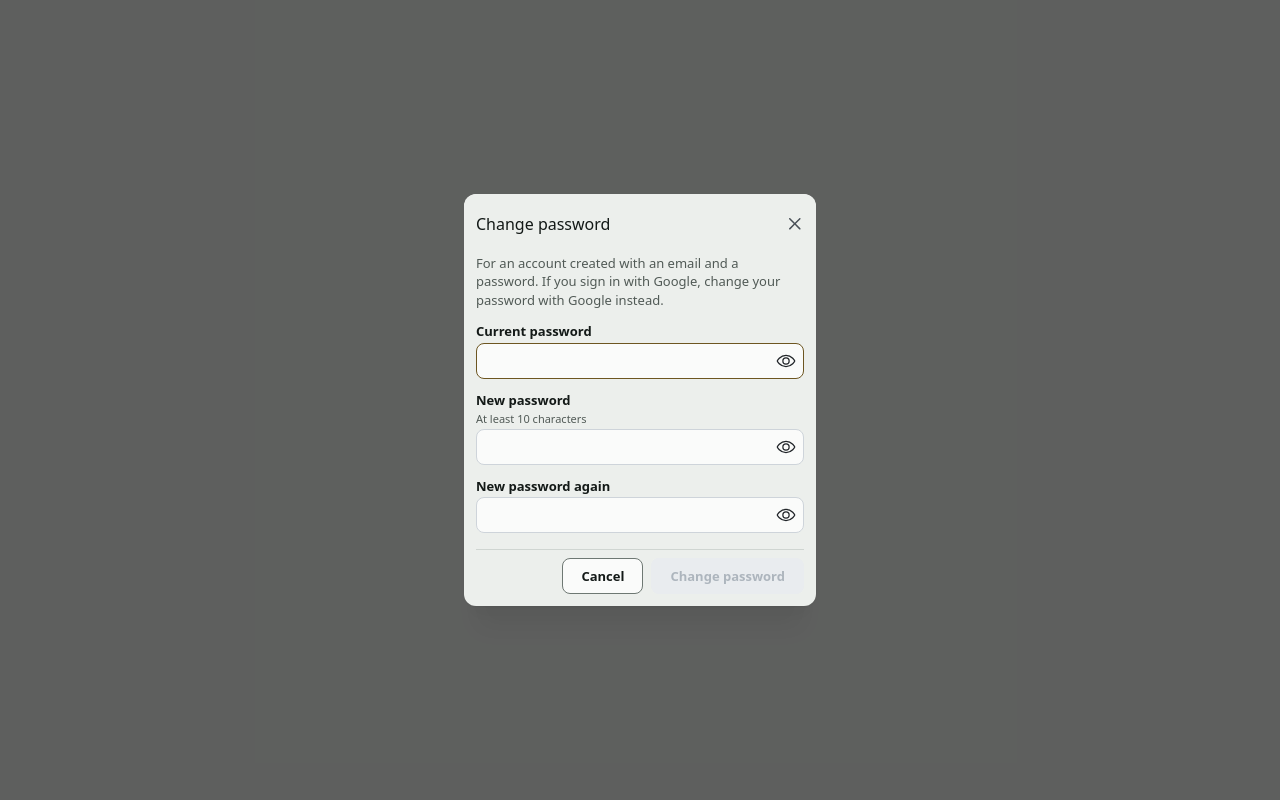
two new passwords that differ are refused before the server is asked
The image size is (1280, 800).
In the password field labelled "Current password": (640, 361) [477,344,803,378], type "password1234"
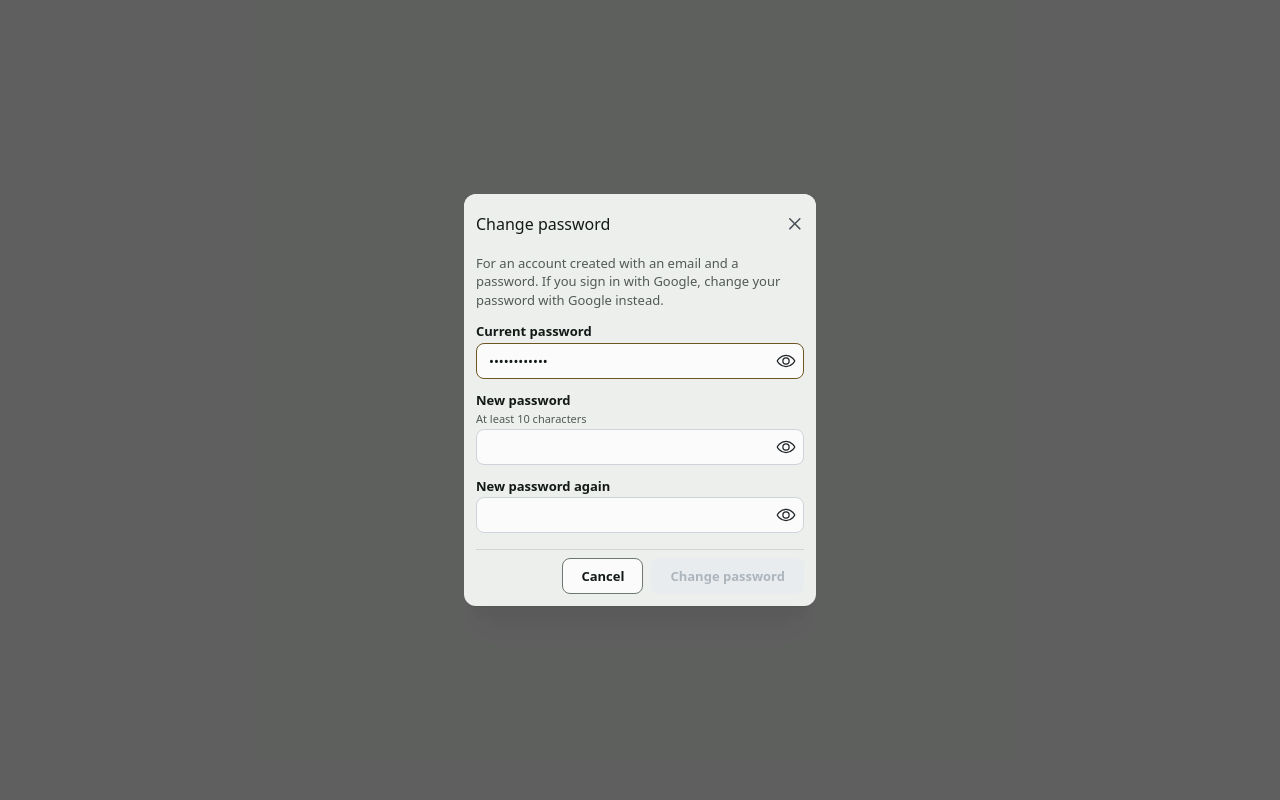
In the password field labelled "New password": (640, 447) [477,430,803,464], type "newpassword12"
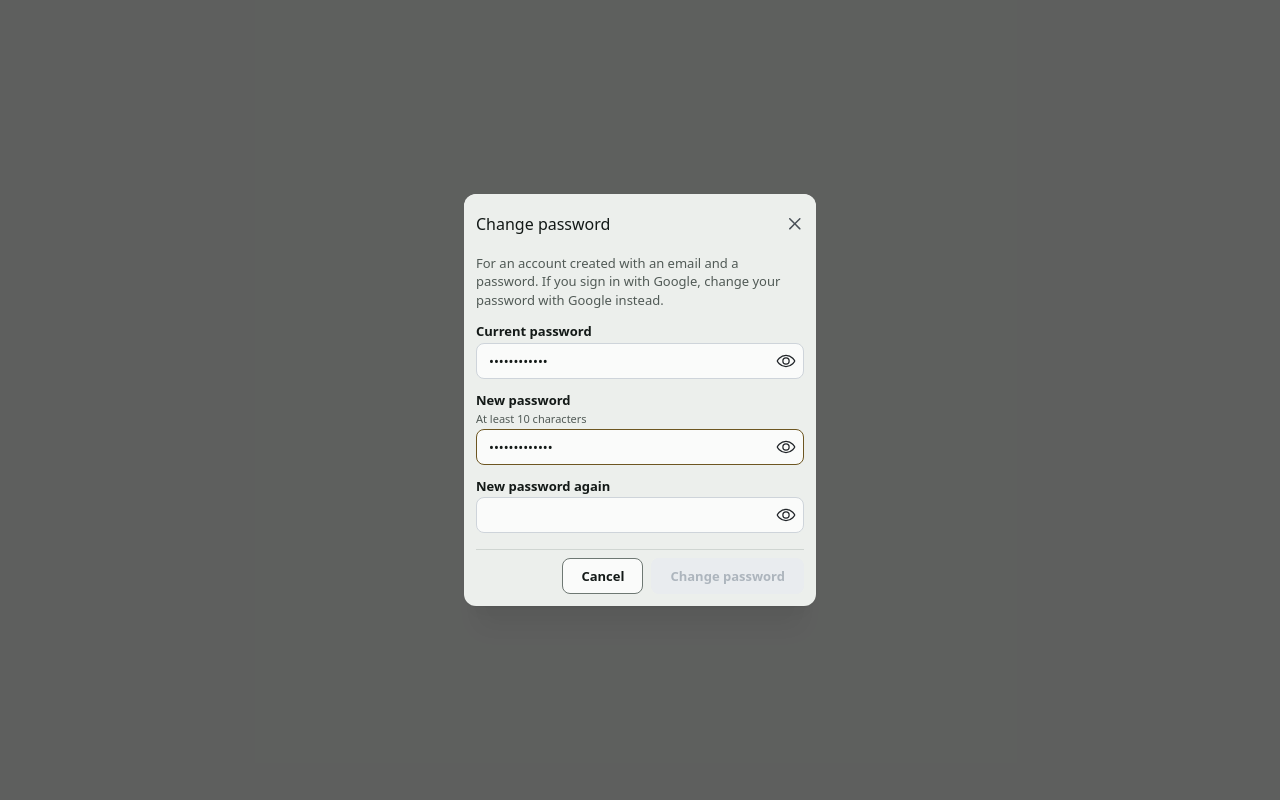
In the password field labelled "New password again": (640, 515) [477,498,803,532], type "newpassword13"
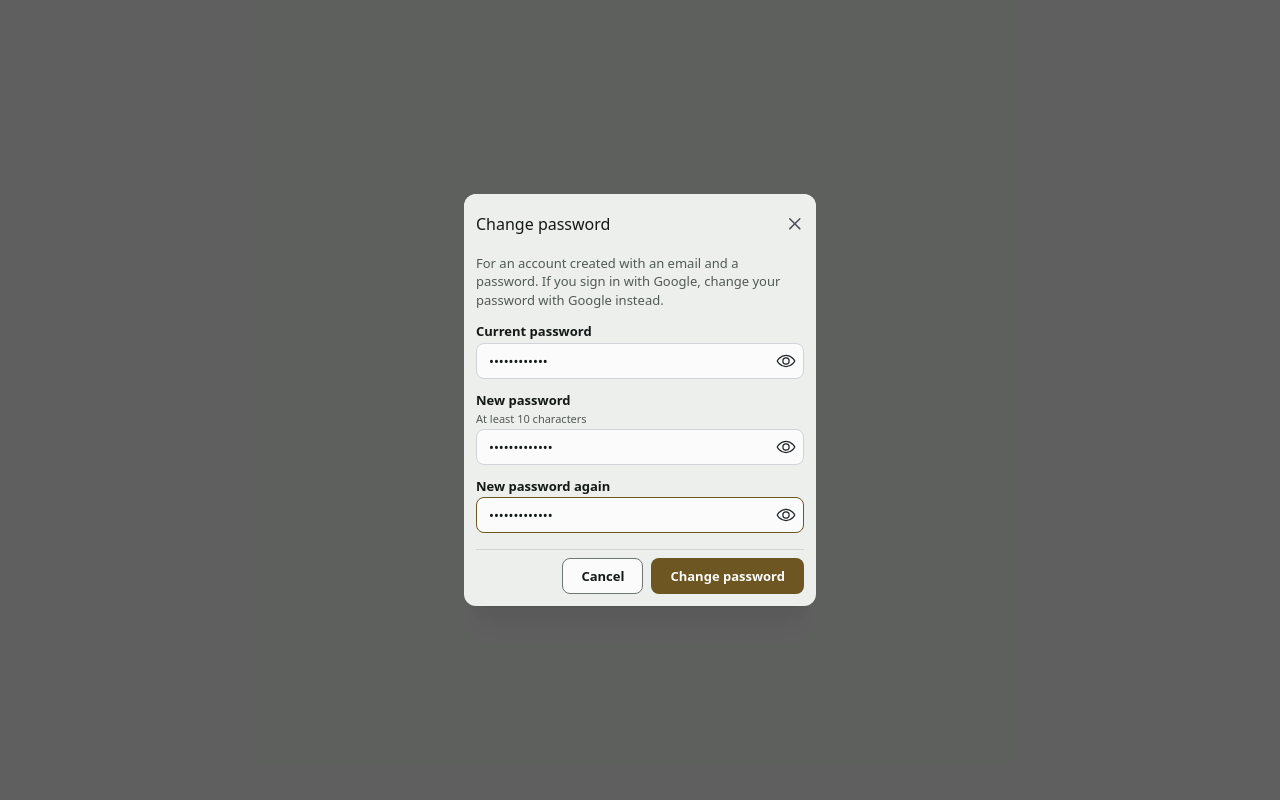
Click the button "Change password": (728, 576) [651,558,804,594]
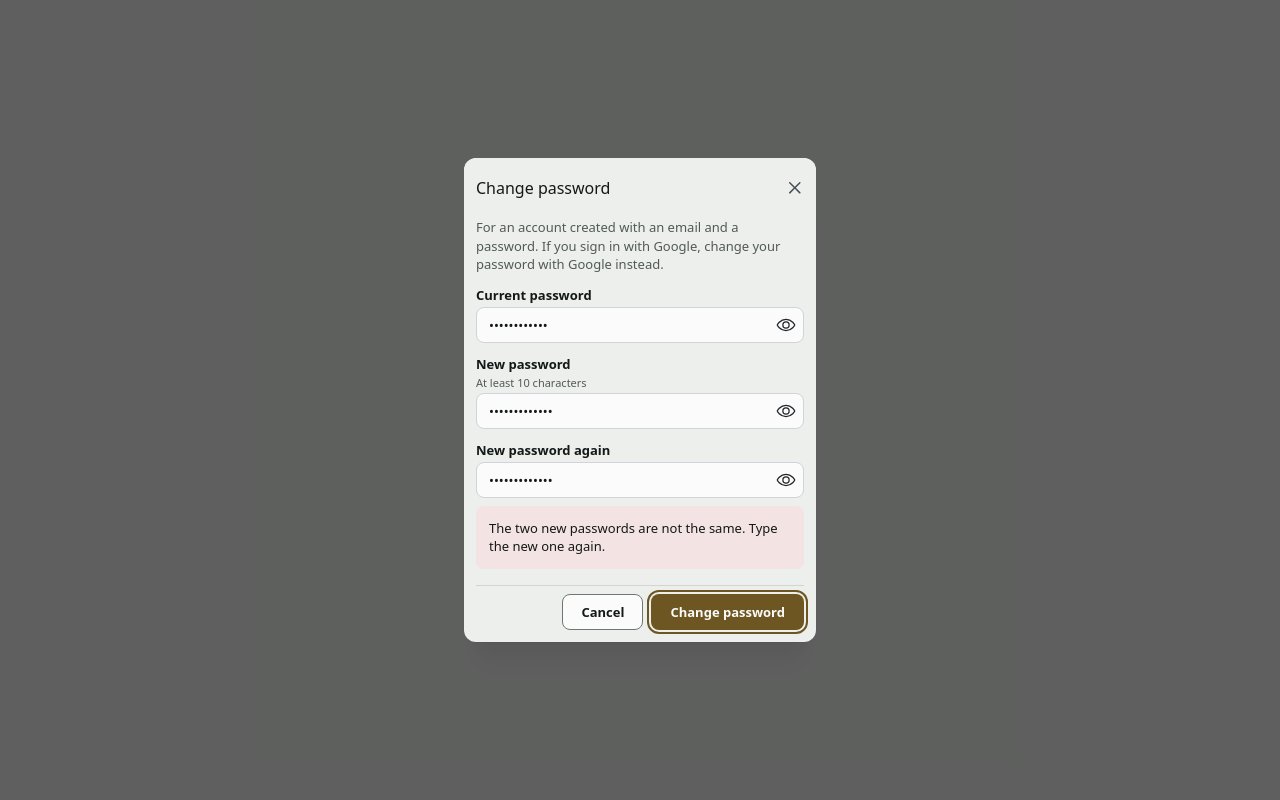
Now the message shows "The two new passwords are not the same", box [489,518,778,555]
